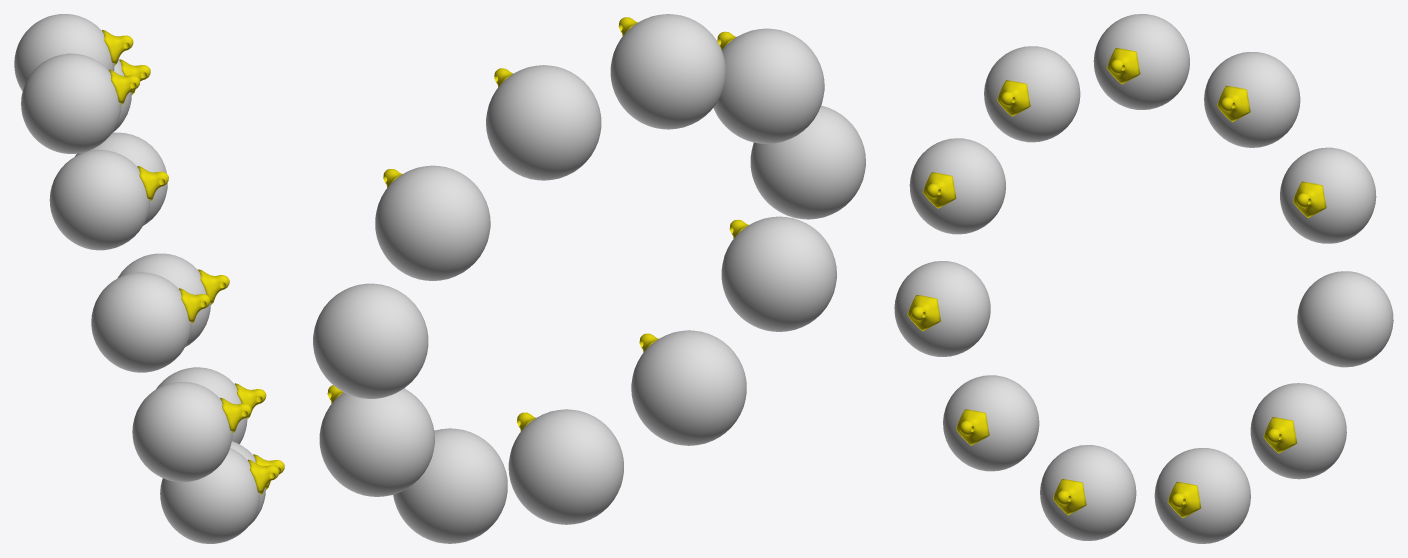
File: cuentas.glb
3 views of the same model, side by side, from view 1: azimuth 30°, elevation 25°; view 2: azimuth 150°, elevation 25°; view 3: azimuth 270°, elevation 25° (orthographic). The views are drawn at different scales.
Parts seen in each view (by area): view 1: cuenta ojo absoluto; view 2: cuenta ojo absoluto; view 3: cuenta ojo absoluto.
Part boxes in pixels (x1=…): cuenta ojo absoluto: x1=14, y1=14, x2=284, y2=543; cuenta ojo absoluto: x1=313, y1=14, x2=865, y2=543; cuenta ojo absoluto: x1=894, y1=14, x2=1393, y2=543.
Size of the model in its own units: 0.3348 by 0.5186 by 0.5059.
